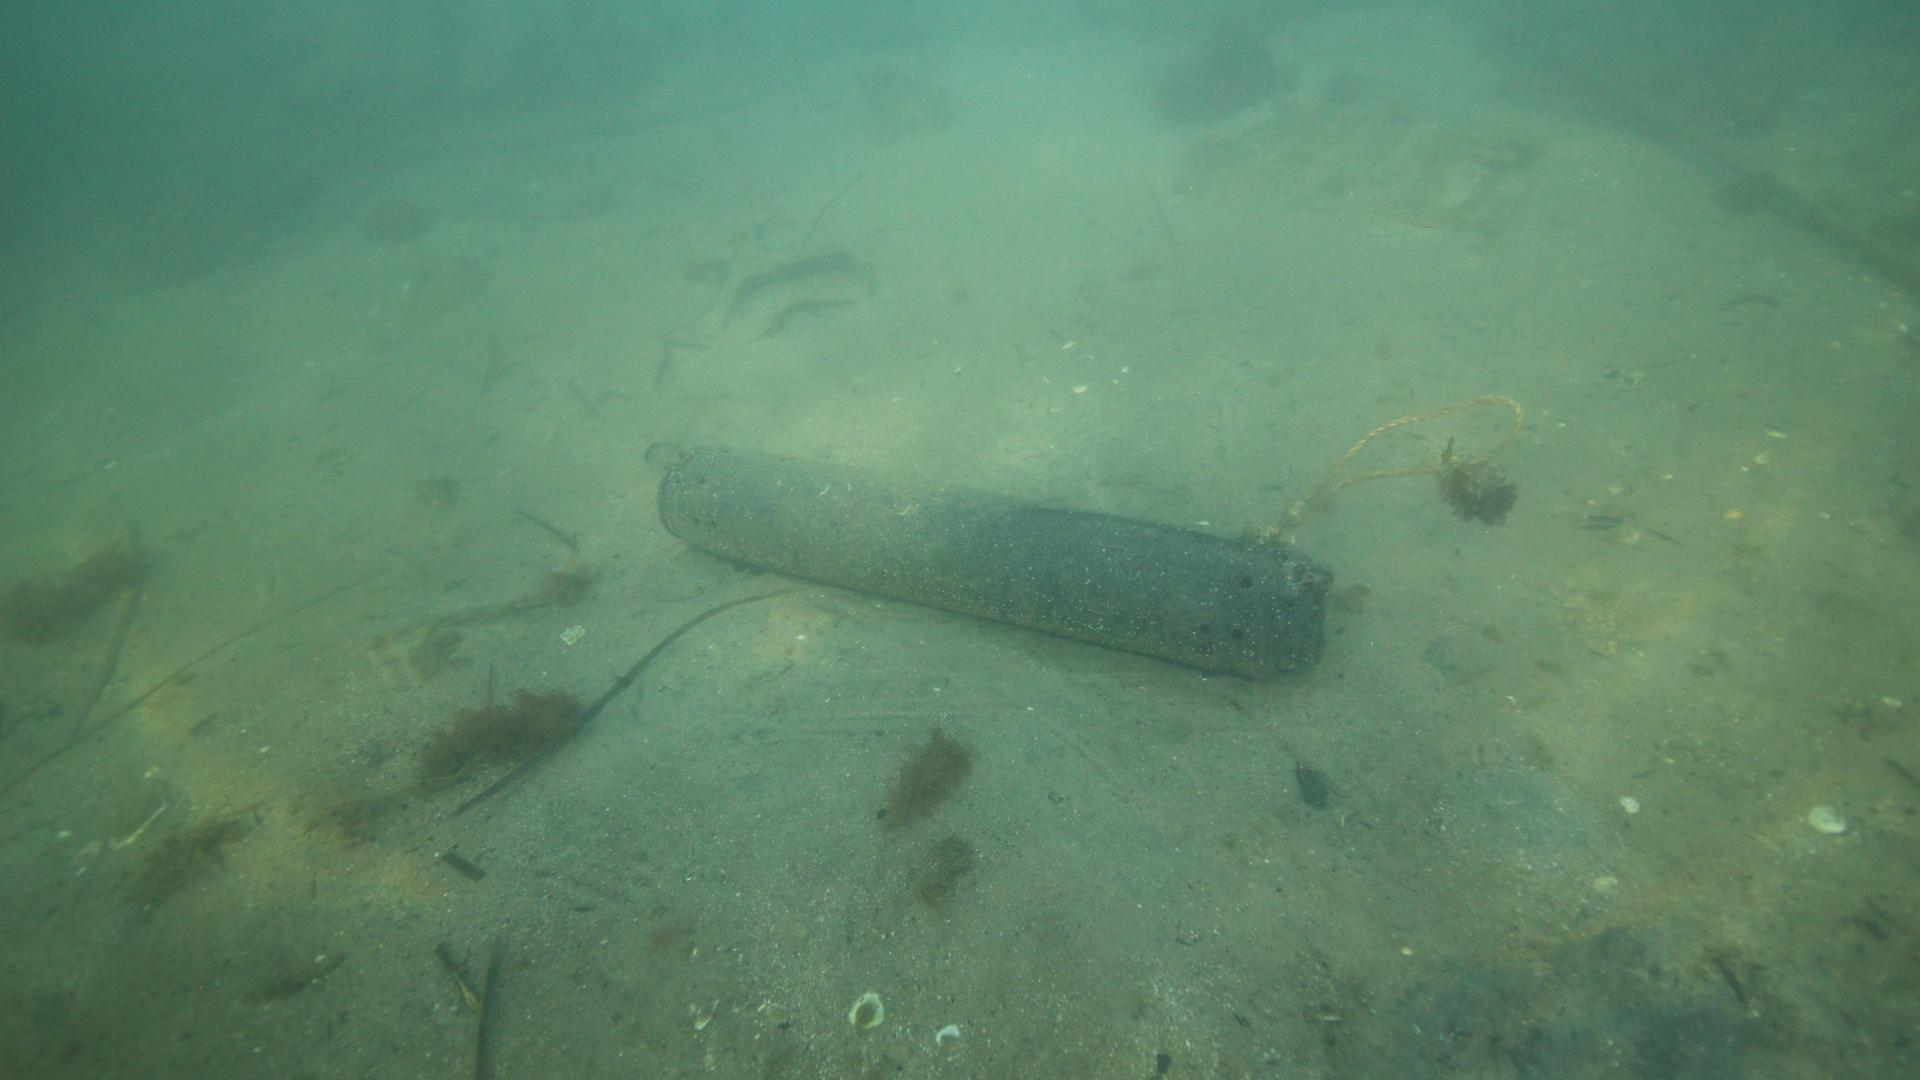bundle of ropes: (1265, 394, 1520, 541)
eel fish trap: (655, 444, 1336, 683)
